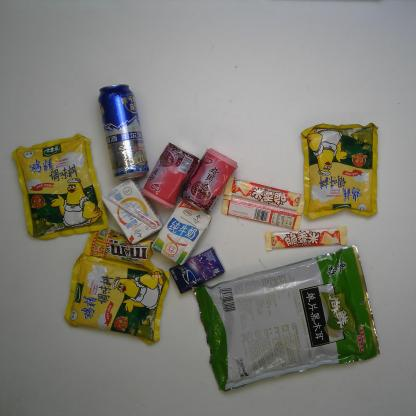Alcohol: (96, 79, 150, 182)
Canned Food: (140, 139, 202, 212), (173, 148, 237, 213)
Chocolate: (218, 171, 311, 215), (217, 190, 306, 232), (81, 223, 160, 269), (259, 227, 348, 252)
Dried Food: (187, 240, 384, 392)
Gum: (166, 244, 227, 296)
Milk: (150, 191, 214, 269), (102, 178, 160, 243)
Seasoner: (10, 129, 108, 242), (62, 250, 174, 344), (300, 117, 379, 218)
